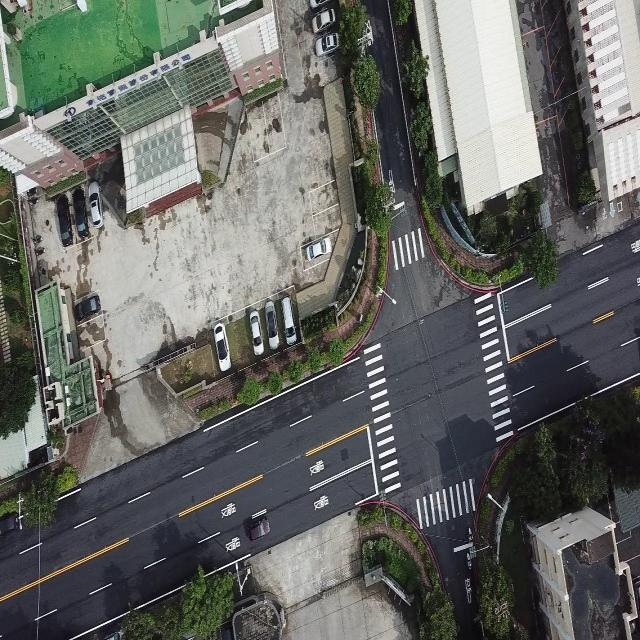car: (54, 192, 74, 245), (72, 188, 90, 240), (74, 292, 102, 323), (213, 323, 230, 373), (90, 181, 106, 230), (0, 508, 23, 540), (282, 294, 296, 345), (267, 299, 280, 352), (249, 309, 263, 354), (306, 237, 332, 261), (314, 31, 339, 55), (312, 8, 336, 32), (248, 515, 270, 541), (310, 0, 328, 9)
